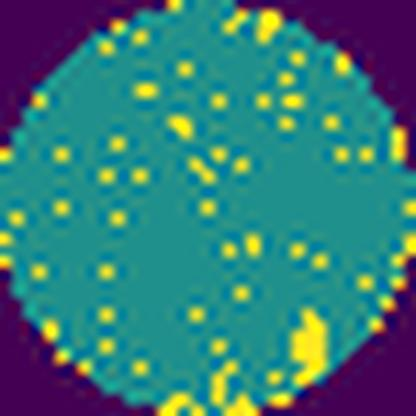Loc: (288, 307, 328, 387)
